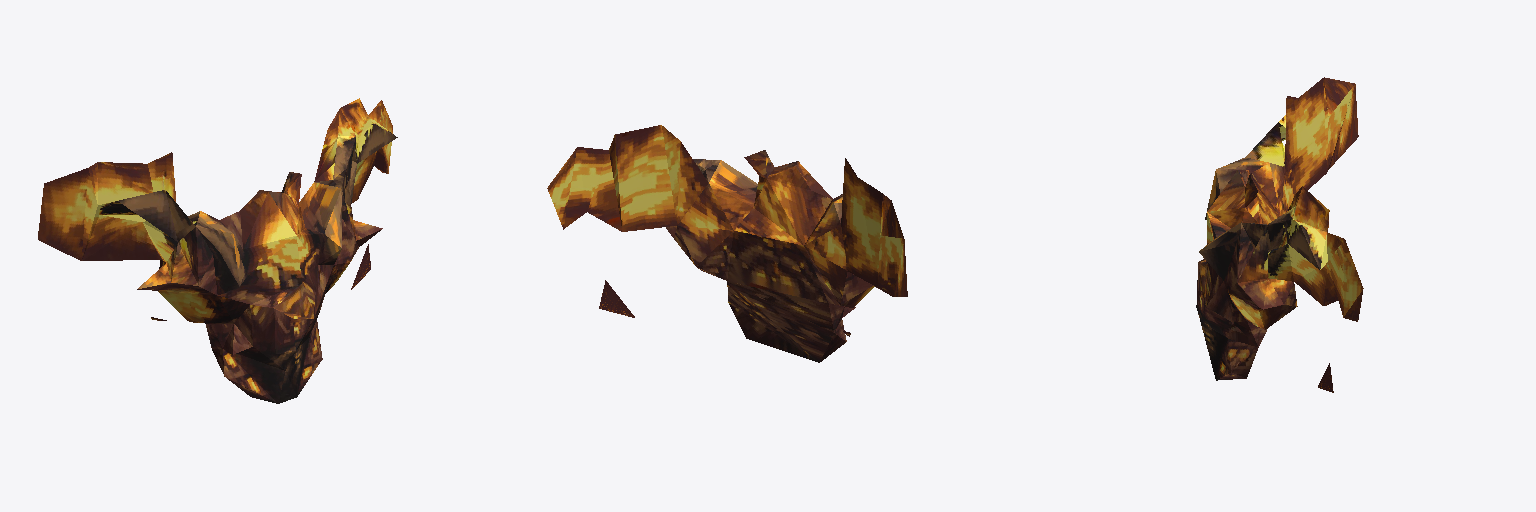
3 views of the same model, side by side, from view 1: azimuth 30°, elevation 25°; view 2: azimuth 150°, elevation 25°; view 3: azimuth 270°, elevation 25° (orthographic).
Parts seen in each view (by area): view 1: ai_model; view 2: ai_model; view 3: ai_model.
Boxes of the visible parts, x1=… form: ai_model: x1=38, y1=98, x2=397, y2=403; ai_model: x1=547, y1=125, x2=907, y2=362; ai_model: x1=1196, y1=77, x2=1363, y2=392.
Bounding box in the file's own units: 0.9743 × 0.63 × 0.3937.
1 materials, 1 textured.